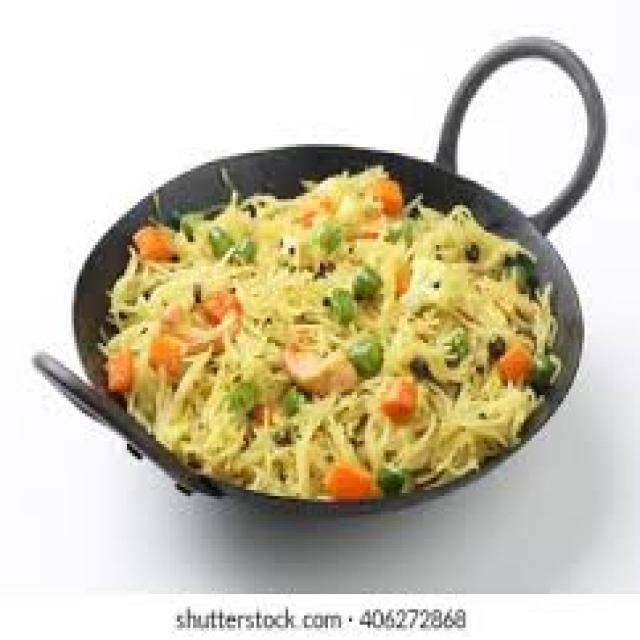POHA: (95, 168, 558, 490)
